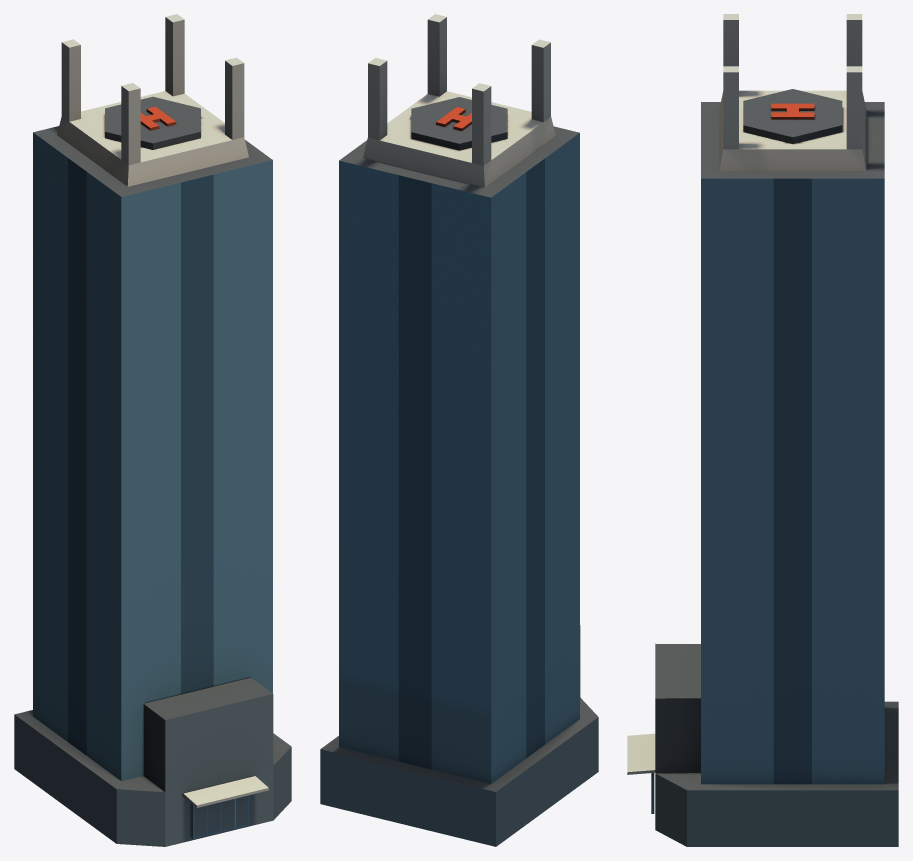
Rendered from PUSHILIN_skyscraper.gltf.
3 views of the same model, side by side, from view 1: azimuth 30°, elevation 25°; view 2: azimuth 150°, elevation 25°; view 3: azimuth 270°, elevation 25° (orthographic). The views are drawn at different scales.
Parts seen in each view (by area): view 1: node-0; view 2: node-0; view 3: node-0.
Part boxes in pixels (x1,y1,x2,y2): node-0: [14, 14, 291, 846]; node-0: [320, 14, 598, 846]; node-0: [627, 14, 898, 846].
Bounding box in the file's own units: 0.9029 × 3.61 × 1.17.
Materials: 1 (1 with a texture image).
